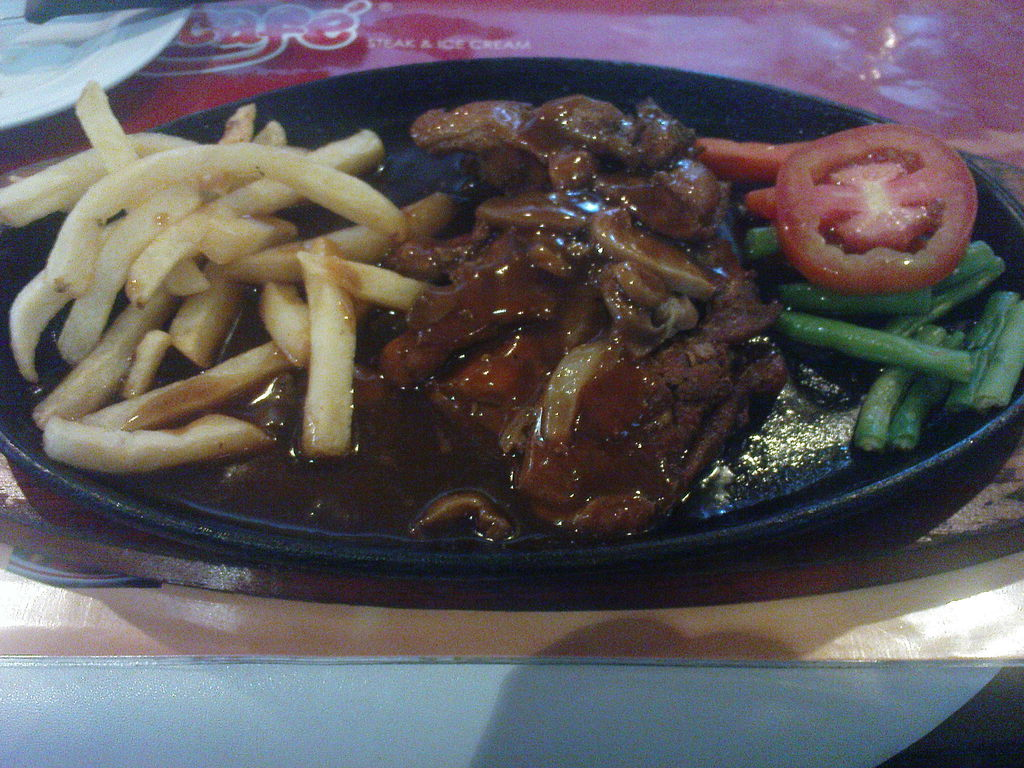French fries: (22, 82, 443, 500)
